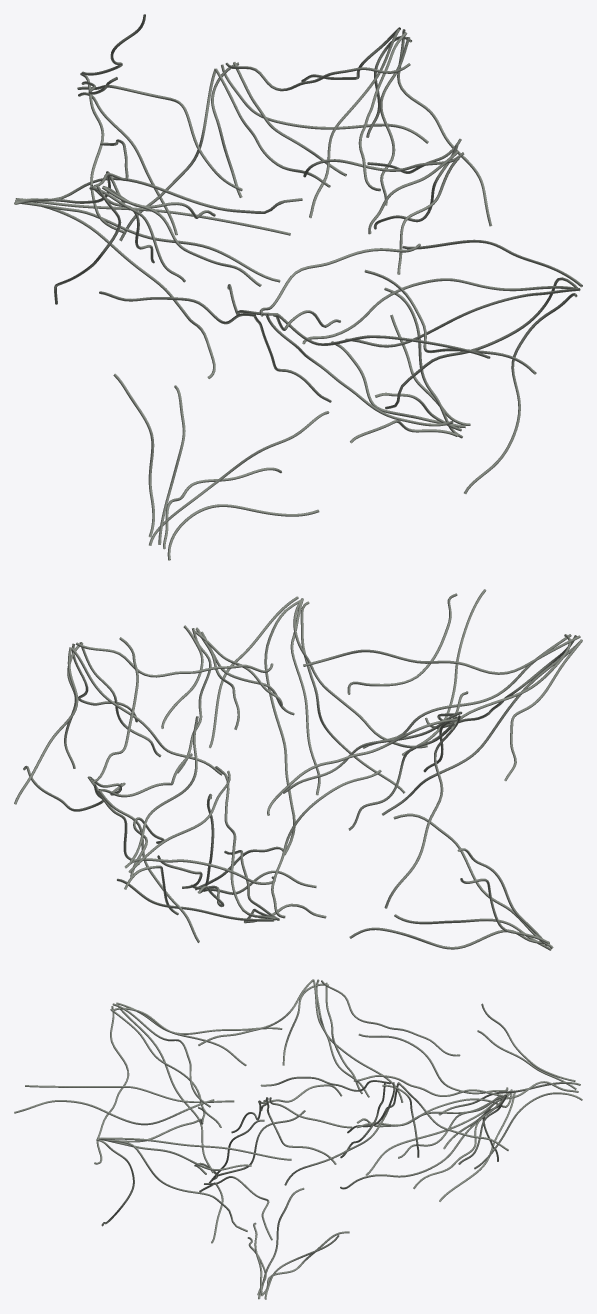
Rendered from MTs.fbx.
3 views of the same model, one above another, from view 1: azimuth 30°, elevation 25°; view 2: azimuth 150°, elevation 25°; view 3: azimuth 270°, elevation 25° (orthographic). The views are drawn at different scales.
Parts seen in each view (by area): view 1: microtubule41, microtubule6, microtubule7, microtubule3, microtubule43, microtubule45, microtubule44, microtubule4, microtubule35, microtubule15, microtubule2, microtubule46 (+4 smaller); view 2: microtubule36, microtubule45, microtubule40, microtubule51, microtubule43, microtubule52, microtubule8, microtubule37, microtubule5, microtubule41, microtubule48, microtubule46 (+19 smaller); view 3: microtubule1, microtubule42, microtubule2, microtubule40, microtubule45, microtubule5, microtubule3, microtubule35, microtubule51, microtubule9.
Boxes of the visible parts, left/top/right/bottom form: microtubule41: left=302, top=278, right=580, bottom=344; microtubule6: left=15, top=201, right=280, bottom=282; microtubule7: left=20, top=177, right=302, bottom=213; microtubule3: left=15, top=200, right=215, bottom=378; microtubule43: left=464, top=293, right=577, bottom=493; microtubule45: left=385, top=277, right=577, bottom=409; microtubule44: left=345, top=288, right=580, bottom=347; microtubule4: left=15, top=198, right=290, bottom=235; microtubule35: left=265, top=314, right=453, bottom=426; microtubule15: left=221, top=64, right=428, bottom=143; microtubule2: left=278, top=314, right=490, bottom=358; microtubule46: left=149, top=411, right=329, bottom=545; microtubule36: left=303, top=635, right=580, bottom=674; microtubule45: left=264, top=600, right=301, bottom=855; microtubule40: left=382, top=642, right=578, bottom=815; microtubule51: left=267, top=718, right=457, bottom=815; microtubule43: left=300, top=601, right=405, bottom=793; microtubule52: left=384, top=715, right=460, bottom=908; microtubule8: left=75, top=642, right=273, bottom=677; microtubule37: left=362, top=634, right=571, bottom=748; microtubule5: left=271, top=770, right=381, bottom=918; microtubule41: left=293, top=599, right=427, bottom=748; microtubule48: left=349, top=927, right=549, bottom=949; microtubule46: left=393, top=813, right=553, bottom=948; microtubule1: left=14, top=1099, right=214, bottom=1125; microtubule42: left=101, top=1137, right=291, bottom=1160; microtubule2: left=25, top=1085, right=234, bottom=1103; microtubule40: left=116, top=1004, right=213, bottom=1173; microtubule45: left=102, top=1139, right=247, bottom=1231; microtubule5: left=358, top=1033, right=508, bottom=1094; microtubule3: left=340, top=1089, right=512, bottom=1189; microtubule35: left=94, top=1006, right=129, bottom=1164; microtubule51: left=321, top=980, right=460, bottom=1056; microtubule9: left=284, top=1082, right=395, bottom=1185.
Bounding box in the file's own units: 25120 × 20104 × 41664.
Materials: 56 (56 with a texture image).
